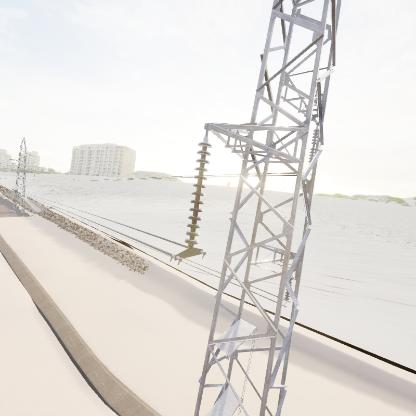insulator: (182, 139, 214, 255)
